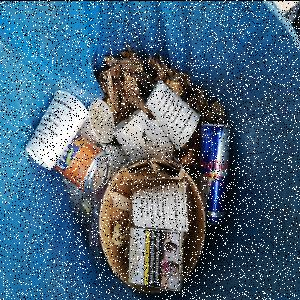Can: (199, 121, 235, 231), (57, 138, 109, 194)
Cup: (25, 88, 90, 173), (145, 80, 203, 152), (132, 177, 192, 235), (114, 108, 148, 163), (88, 97, 117, 143)
Trash: (127, 229, 187, 293)
